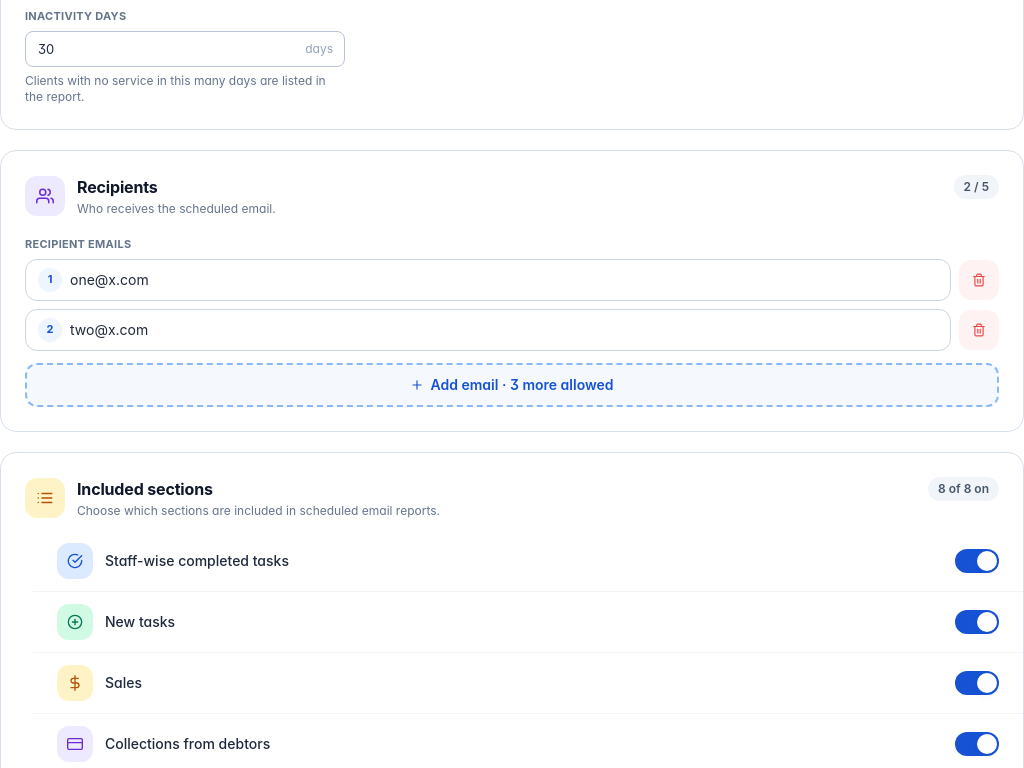
Test case: Executive Summary – recipient emails › keeps draft.recipient_emails in sync, dropping blanks and removed rows
(page scrolled)
Click the button with aria-label "Add recipient email": (512, 385) [25, 363, 999, 407]
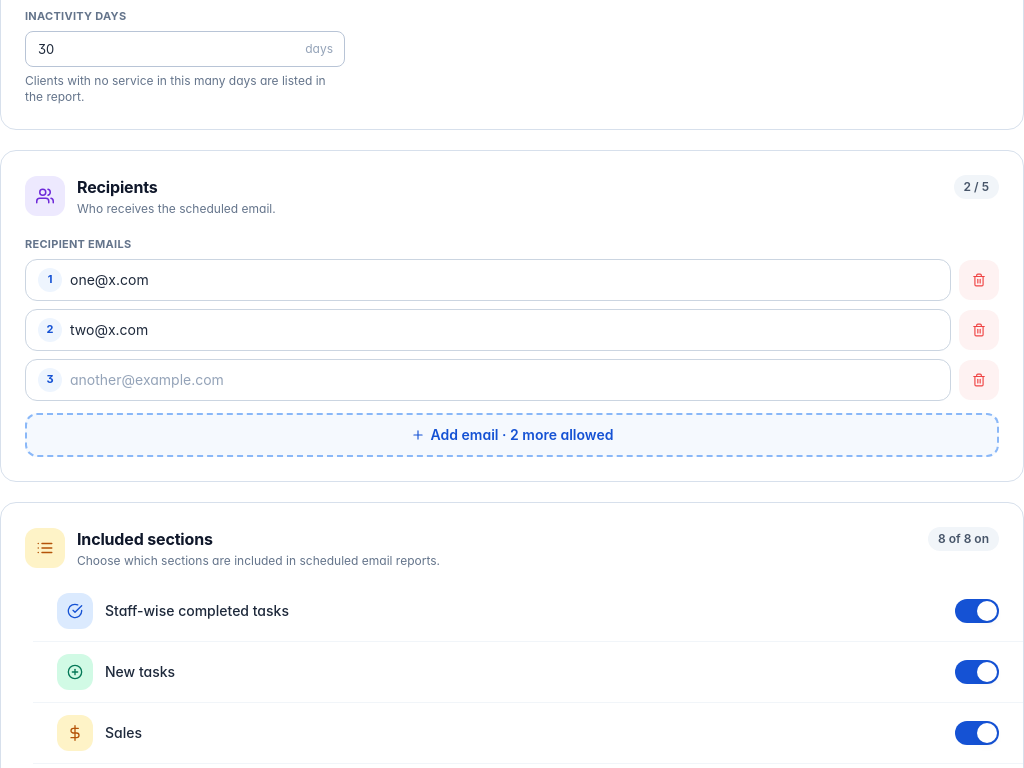
In the field named "Recipient email 3": (504, 380) [70, 360, 938, 400], type "three@x.com"
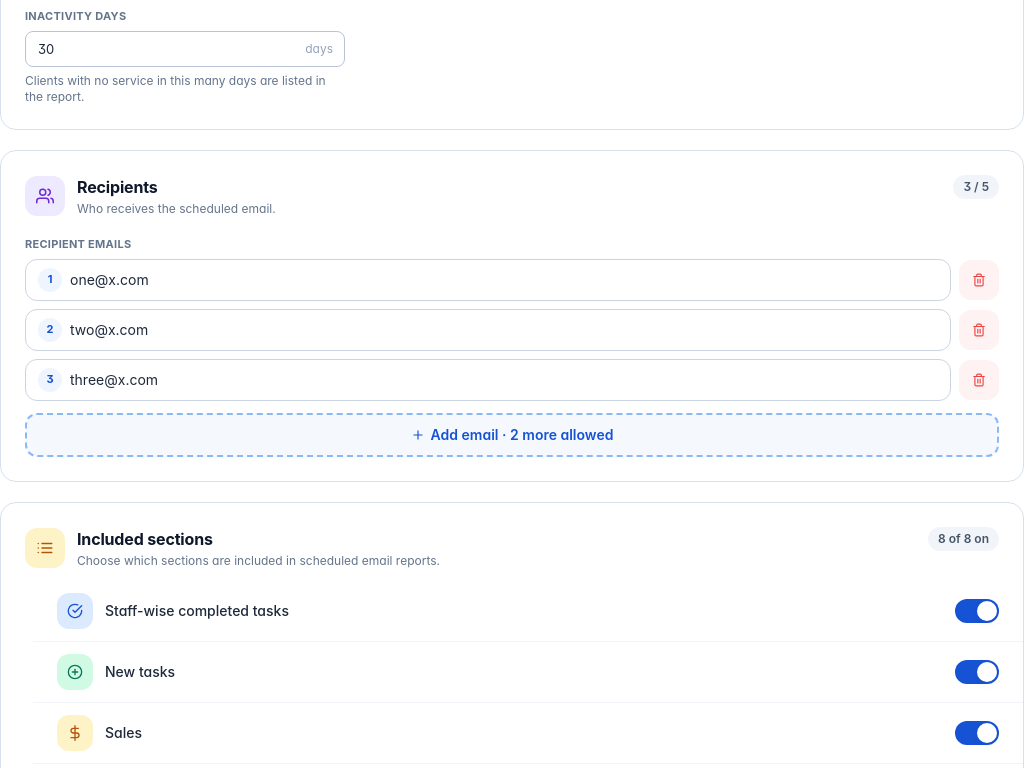
Click the button named "Remove recipient email 1": (979, 280) [959, 260, 999, 300]
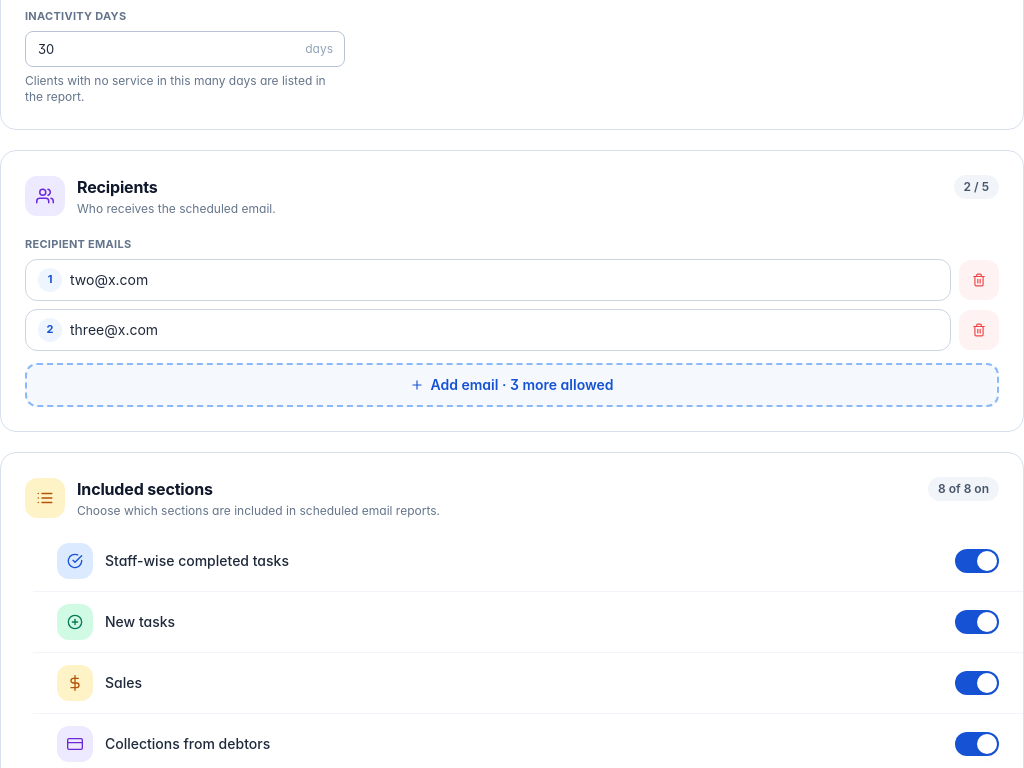
Expected: the field named "Recipient email 1" holds "two@x.com", [70, 260, 938, 300]
